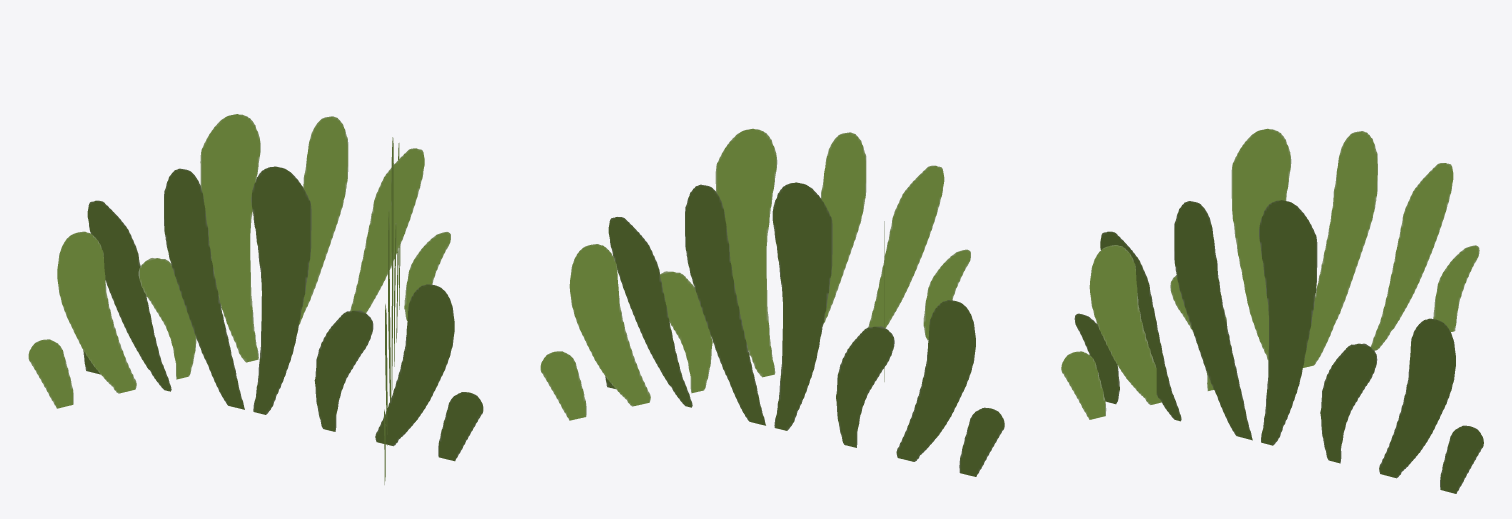
Rendered from Grass_01.fbx.
3 renders of one model, left to right at view 1: azimuth 30°, elevation 25°; view 2: azimuth 150°, elevation 25°; view 3: azimuth 270°, elevation 25°, orthographic.
Visible parts, largest first — view 1: Plane.038; view 2: Plane.038; view 3: Plane.038.
Boxes of the visible parts, x1,y1,x2,y2 form: Plane.038: (28,114,483,484); Plane.038: (540,128,1004,476); Plane.038: (1061,128,1483,493).
Bounding box in the file's own units: 35.37 × 21.09 × 30.85.
1 material, 1 textured.
